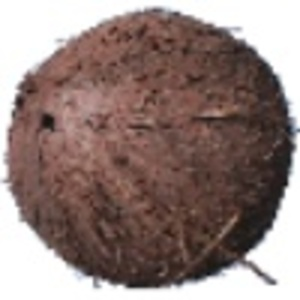coco: (1, 6, 300, 288)
